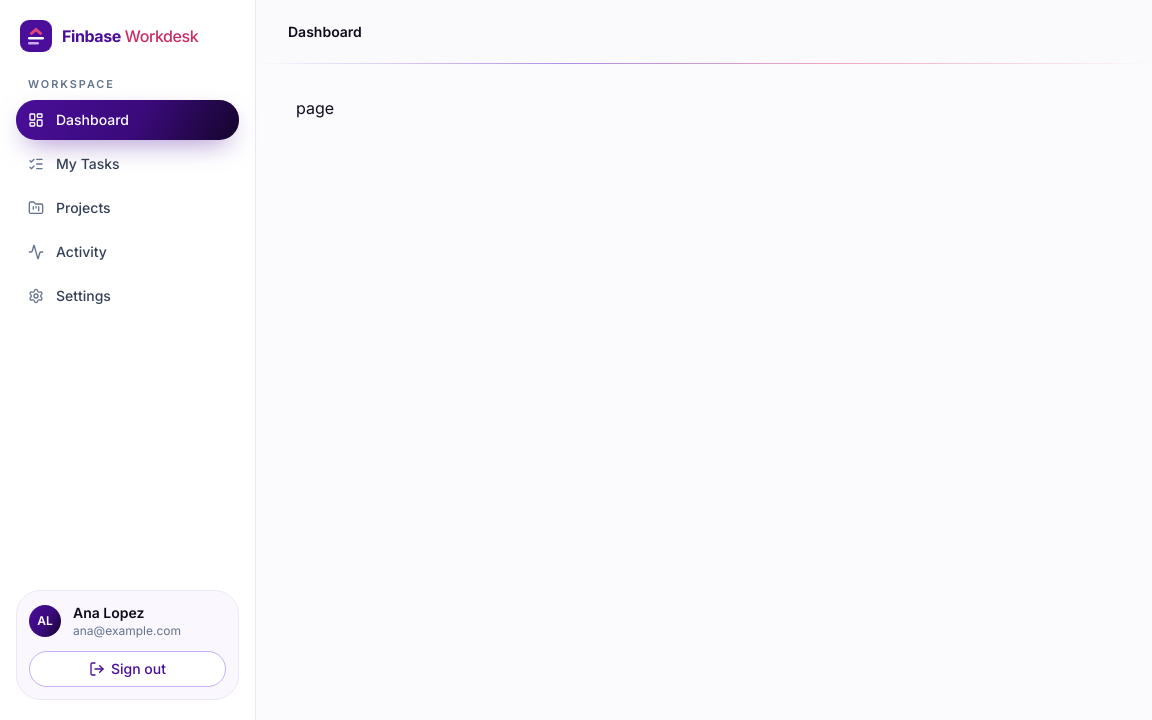
Test: sign out (bottom of the sidebar) › stays signed in and says so next to the button when logout fails
Click the button "Sign out". click: [128, 669]
box: top-left (29, 651), bottom-right (226, 687)
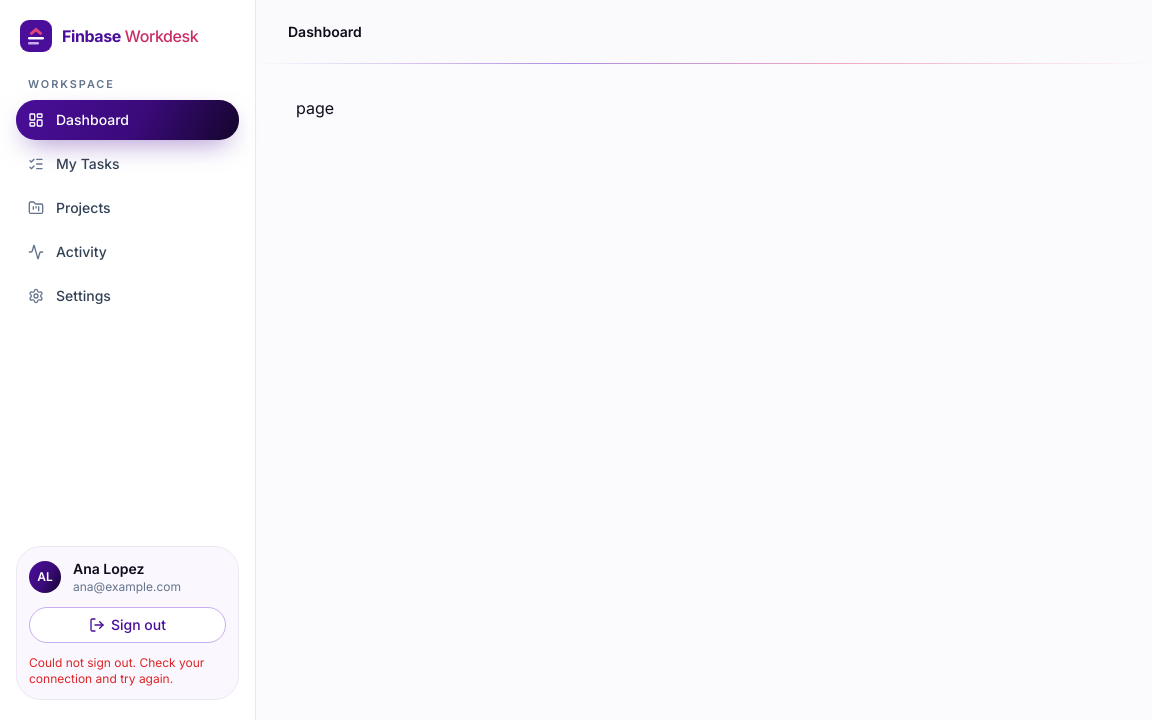
Expected: the button "Sign out" is enabled, top-left (29, 607), bottom-right (226, 643)
Expected: the message reads "Could not sign out. Check your connection and try again.", top-left (29, 655), bottom-right (204, 686)
